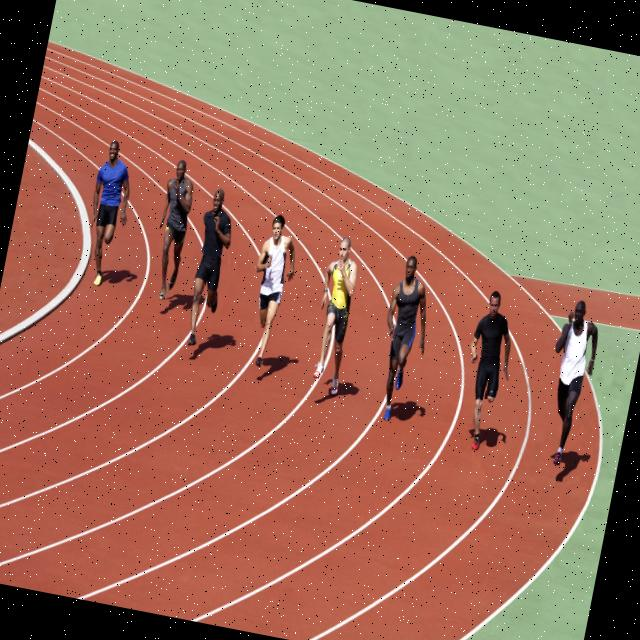Person: (368, 252, 442, 424), (452, 288, 524, 454), (534, 298, 604, 468), (237, 212, 303, 370), (178, 186, 240, 350), (304, 234, 366, 393), (78, 140, 140, 288), (145, 159, 198, 302)
